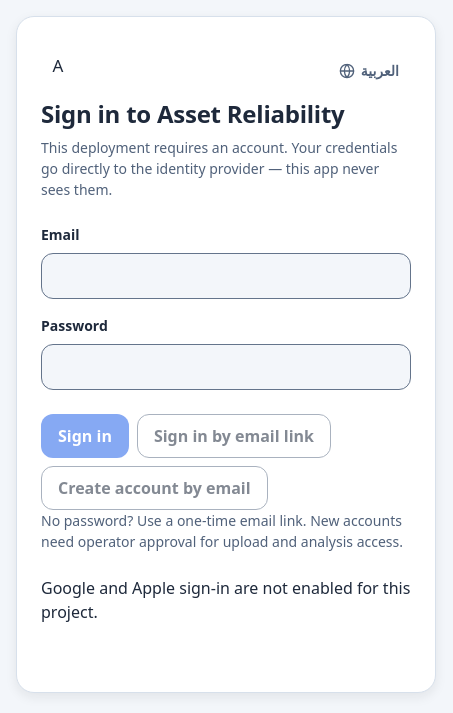
Test: managed SignIn › does not pretend to sign in when API verification rejects the token
Type "analyst@example.com" into the field labelled "Email" at x=226, y=276, box [41,252,411,298]
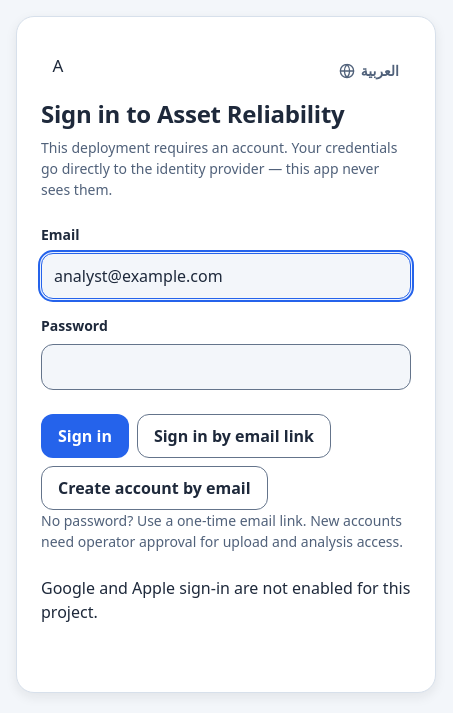
Click the button "Sign in" at x=85, y=436, box [41,414,129,458]
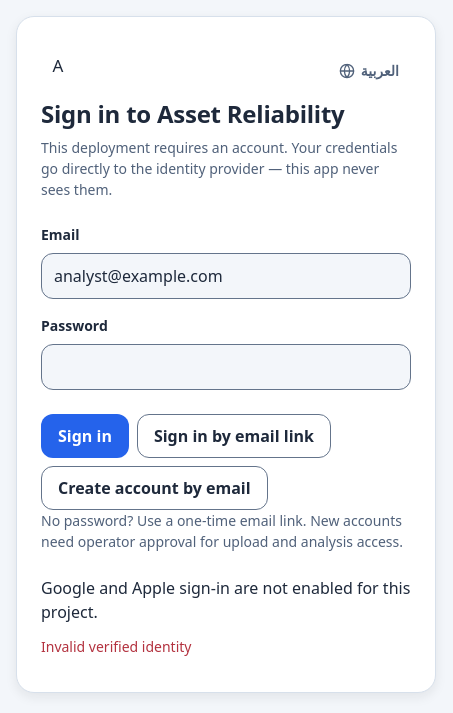
Now the text "Invalid verified identity" is shown, box [41,636,192,656]
